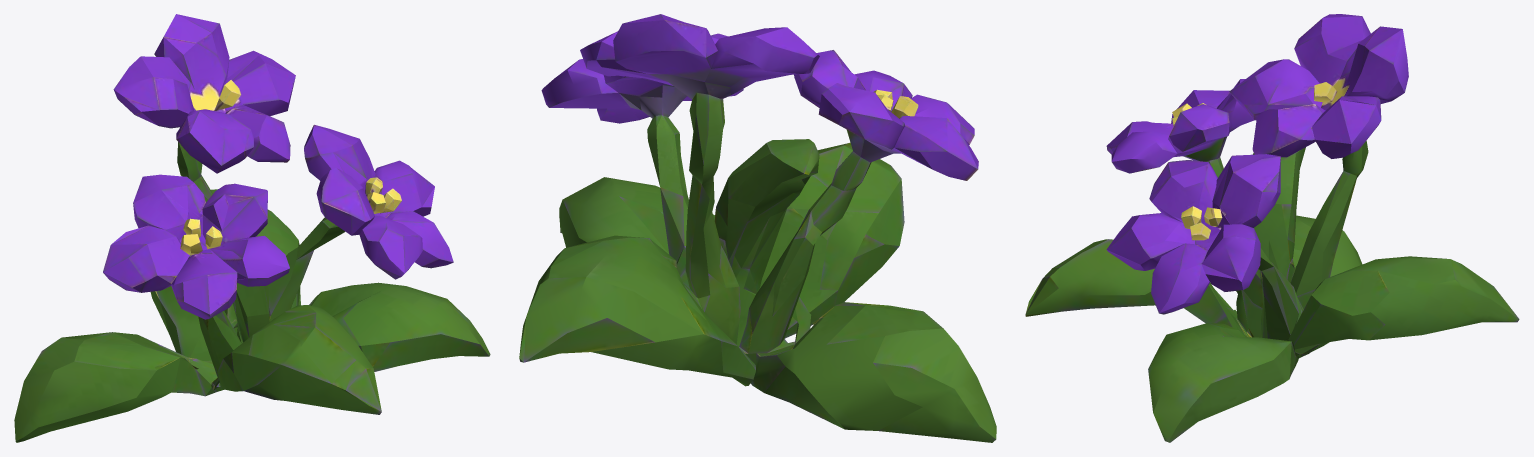
File: nature-flower-purple.glb
The picture shows the model from 3 angles, left to right: view 1: azimuth 30°, elevation 25°; view 2: azimuth 150°, elevation 25°; view 3: azimuth 270°, elevation 25°; orthographic projection. The views are drawn at different scales.
Visible parts, largest first — view 1: nature-flower-purple-fit; view 2: nature-flower-purple-fit; view 3: nature-flower-purple-fit.
Part boxes in pixels (x1,y1,x2,y2): nature-flower-purple-fit: [14, 14, 490, 442]; nature-flower-purple-fit: [519, 14, 996, 442]; nature-flower-purple-fit: [1025, 14, 1519, 442].
Bounding box in the file's own units: 0.6464 × 0.4982 × 0.6476.
1 material, 1 textured.
